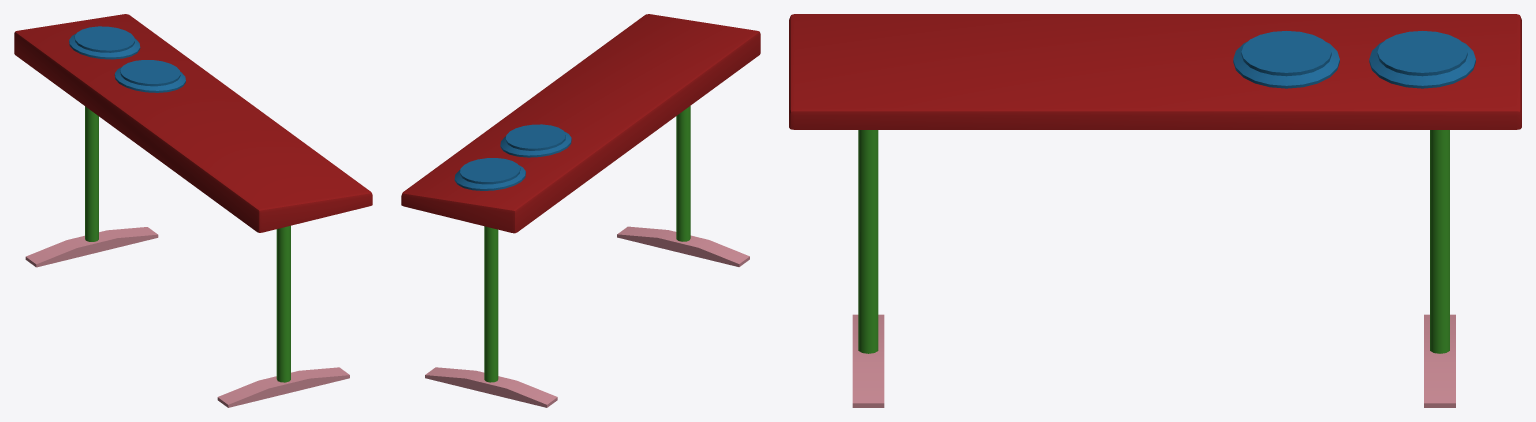
File: table_mixage.FBX
3 renders of one model, left to right at view 1: azimuth 30°, elevation 25°; view 2: azimuth 150°, elevation 25°; view 3: azimuth 270°, elevation 25°, orthographic. The views are drawn at different scales.
Parts seen in each view (by area): view 1: mix; view 2: mix; view 3: mix.
Boxes of the visible parts, left/top/right/bottom form: mix: left=14, top=14, right=372, bottom=407; mix: left=401, top=14, right=760, bottom=407; mix: left=789, top=14, right=1521, bottom=407.
Bounding box in the file's own units: 39.42 × 64.81 × 135.
